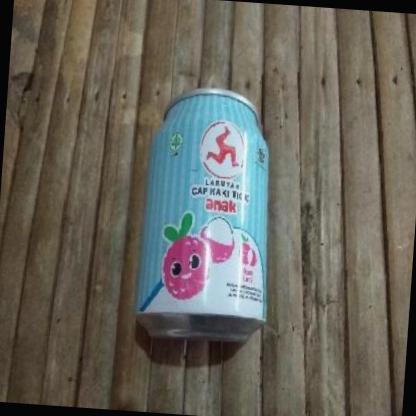alumunium_can: (132, 78, 282, 354)
